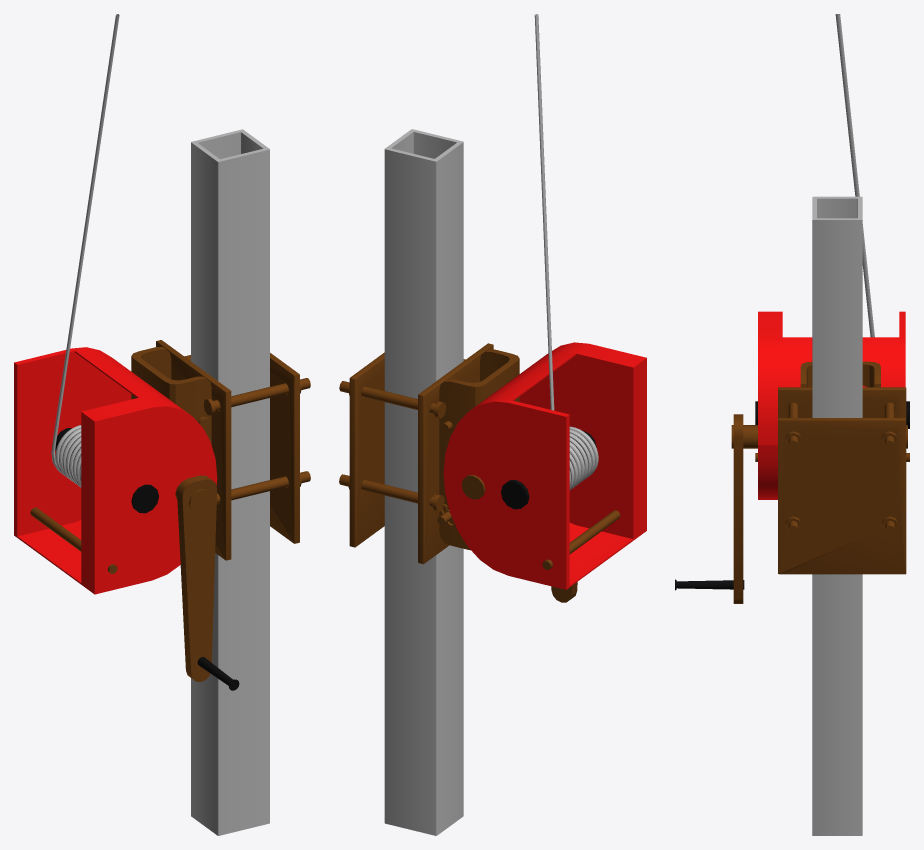
3 renders of one model, left to right at view 1: azimuth 30°, elevation 25°; view 2: azimuth 150°, elevation 25°; view 3: azimuth 270°, elevation 25°, orthographic. The views are drawn at different scales.
Parts seen in each view (by area): view 1: SM_PN801; view 2: SM_PN801; view 3: SM_PN801.
Boxes of the visible parts, x1,y1,x2,y2 form: SM_PN801: (14, 14, 310, 835); SM_PN801: (339, 14, 646, 835); SM_PN801: (675, 14, 909, 835).
Bounding box in the file's own units: 200 × 683 × 191.
